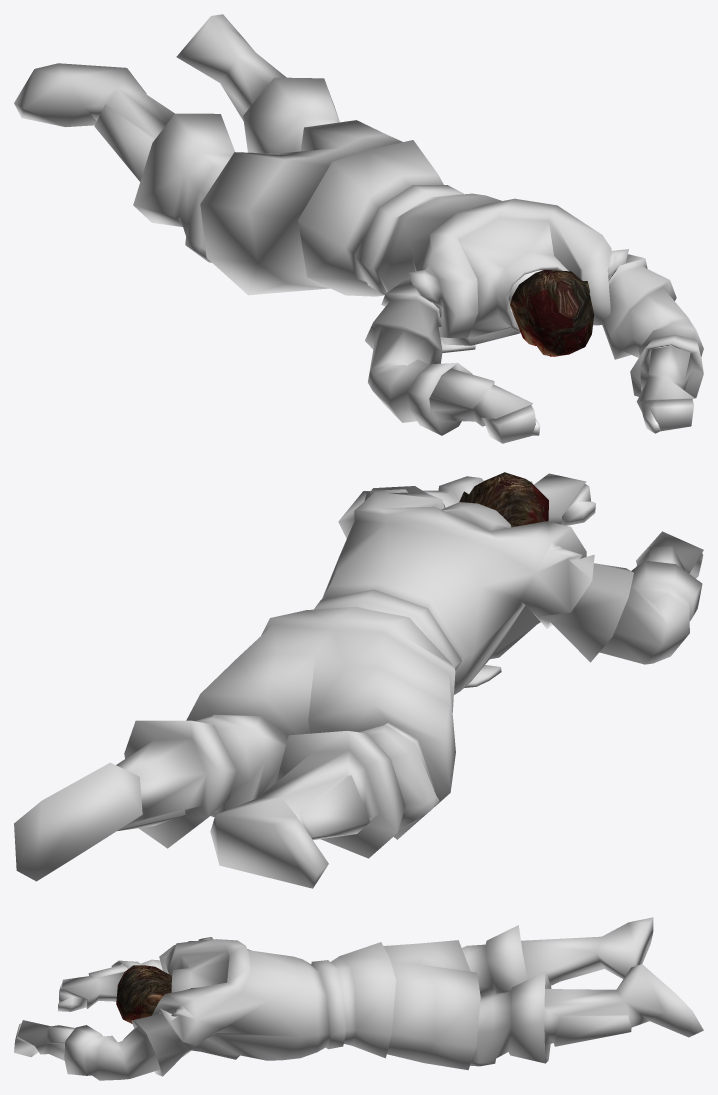
File: KM_CITYONFIRE_CORPSE_MILITIA_06.glb
3 views of the same model, one above another, from view 1: azimuth 30°, elevation 25°; view 2: azimuth 150°, elevation 25°; view 3: azimuth 270°, elevation 25° (orthographic). The views are drawn at different scales.
Parts seen in each view (by area): view 1: Mesh; view 2: Mesh; view 3: Mesh.
Part boxes in pixels (left/top/right/bottom): Mesh: left=14, top=14, right=703, bottom=443; Mesh: left=14, top=472, right=703, bottom=888; Mesh: left=14, top=917, right=703, bottom=1080.
Bounding box in the file's own units: 0.8908 × 0.4426 × 2.32.
Materials: 3 (1 with a texture image).
